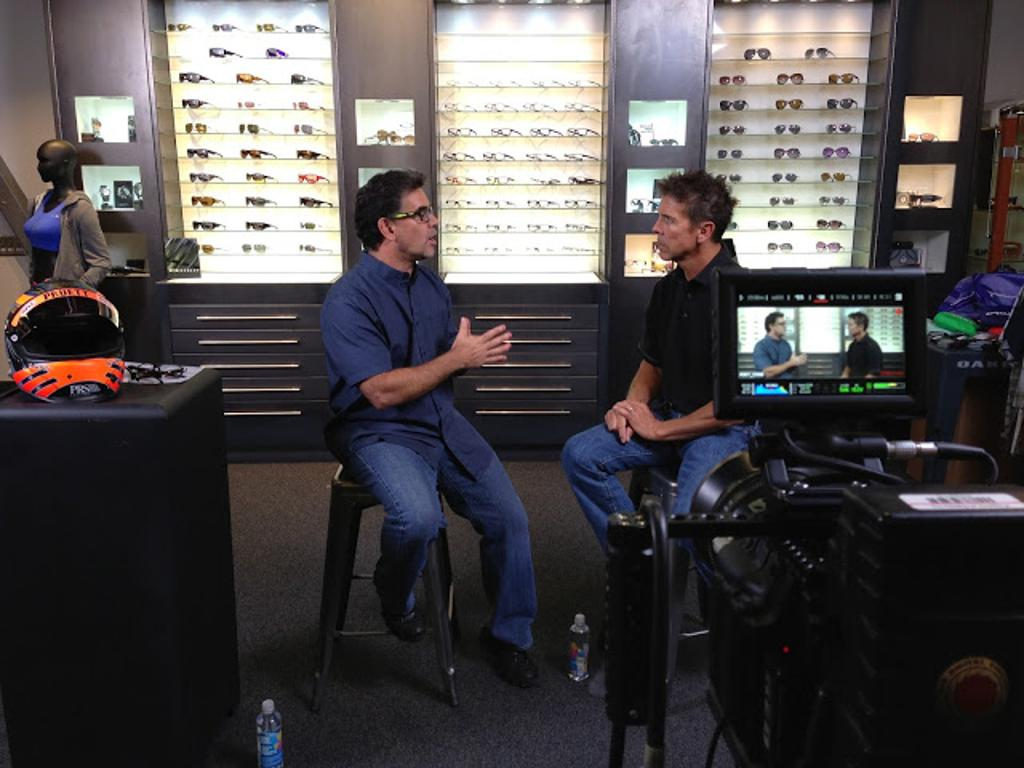face: (394, 192, 437, 258), (652, 197, 697, 260), (773, 317, 785, 335), (847, 319, 858, 335)
